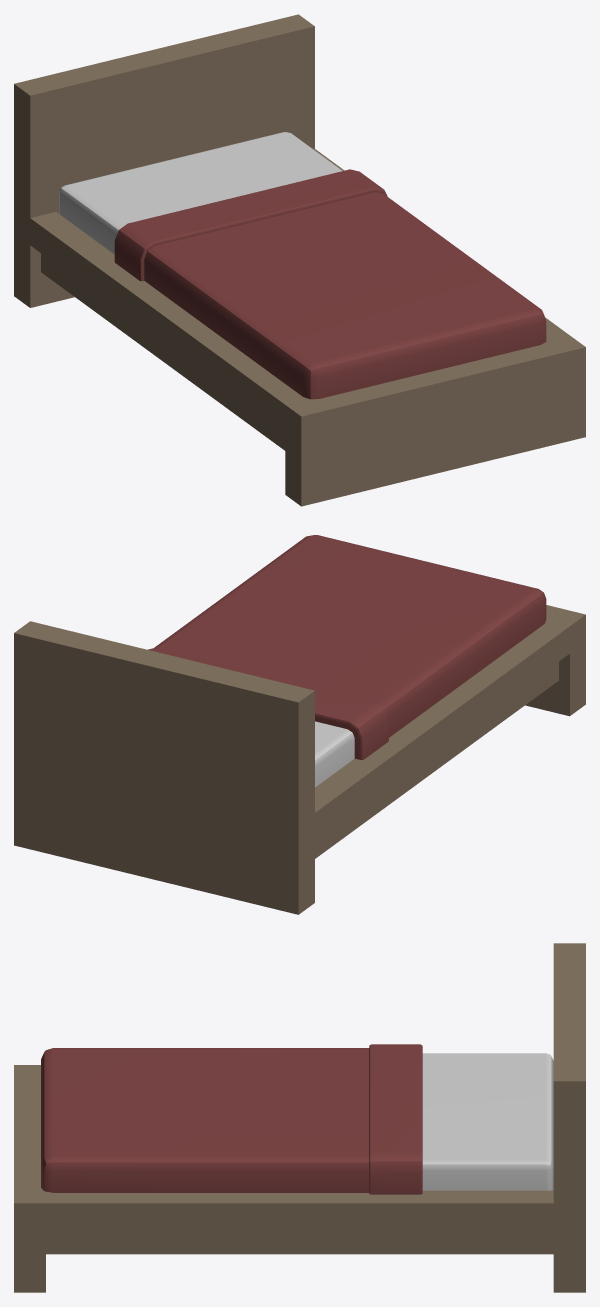
The model's file is prp_Bed_01.fbx.
3 renders of one model, top to bottom at view 1: azimuth 30°, elevation 25°; view 2: azimuth 150°, elevation 25°; view 3: azimuth 270°, elevation 25°, orthographic.
Visible parts, largest first — view 1: PRP_Bed_01, PRP_Bed_01_Back, PRP_Bed_01_Front, PRP_Bed_01_Sides; view 2: PRP_Bed_01_Back, PRP_Bed_01, PRP_Bed_01_Sides, PRP_Bed_01_Front; view 3: PRP_Bed_01, PRP_Bed_01_Sides, PRP_Bed_01_Back, PRP_Bed_01_Front.
Part boxes in pixels (x1=…): PRP_Bed_01: x1=59, y1=132, x2=546, y2=399; PRP_Bed_01_Back: x1=14, y1=14, x2=314, y2=307; PRP_Bed_01_Front: x1=285, y1=335, x2=585, y2=506; PRP_Bed_01_Sides: x1=30, y1=148, x2=569, y2=450; PRP_Bed_01_Back: x1=14, y1=621, x2=314, y2=914; PRP_Bed_01: x1=148, y1=535, x2=546, y2=787; PRP_Bed_01_Sides: x1=315, y1=620, x2=569, y2=858; PRP_Bed_01_Front: x1=525, y1=605, x2=585, y2=716; PRP_Bed_01: x1=41, y1=1044, x2=553, y2=1194; PRP_Bed_01_Sides: x1=46, y1=1190, x2=553, y2=1254; PRP_Bed_01_Back: x1=553, y1=943, x2=585, y2=1292; PRP_Bed_01_Front: x1=14, y1=1065, x2=45, y2=1292.
Size of the model in its own units: 217 by 155 by 380.
